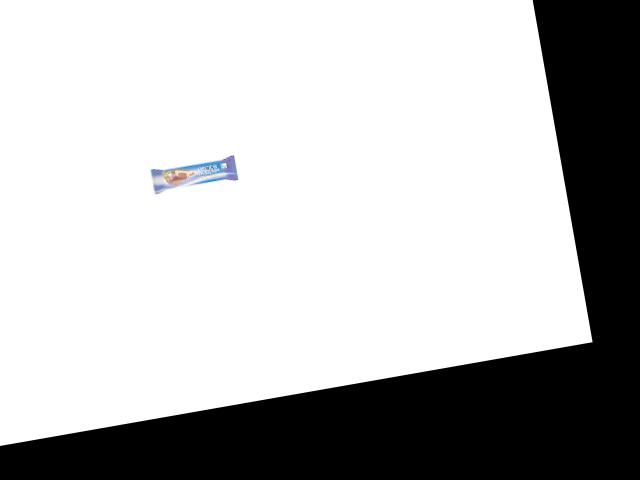chocolate: (137, 146, 240, 197)
